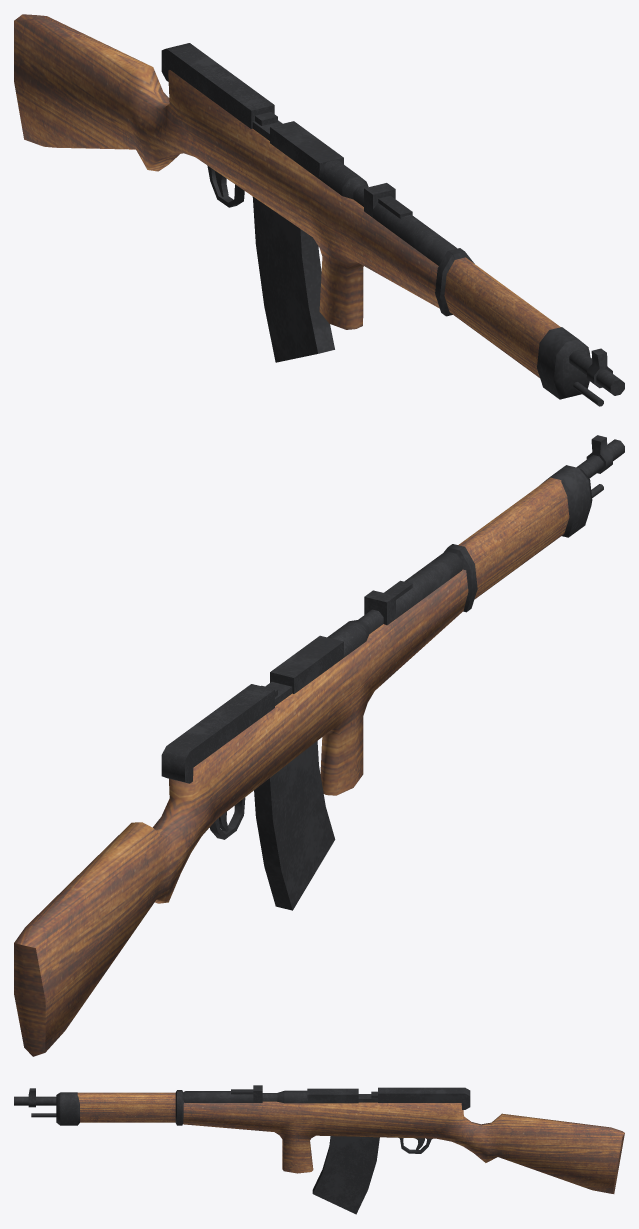
File: 1220费德洛夫步枪.FBX
3 renders of one model, top to bottom at view 1: azimuth 30°, elevation 25°; view 2: azimuth 150°, elevation 25°; view 3: azimuth 270°, elevation 25°, orthographic. The views are drawn at different scales.
Visible parts, largest first — view 1: 1221_FedorovAutoRifle; view 2: 1221_FedorovAutoRifle; view 3: 1221_FedorovAutoRifle.
Boxes of the visible parts, bbox=[...] form: 1221_FedorovAutoRifle: bbox=[14, 14, 624, 406]; 1221_FedorovAutoRifle: bbox=[14, 435, 624, 1056]; 1221_FedorovAutoRifle: bbox=[14, 1085, 624, 1214].
Bounding box in the file's own units: 4.33 × 26.7 × 119.
Materials: 1 (1 with a texture image).
